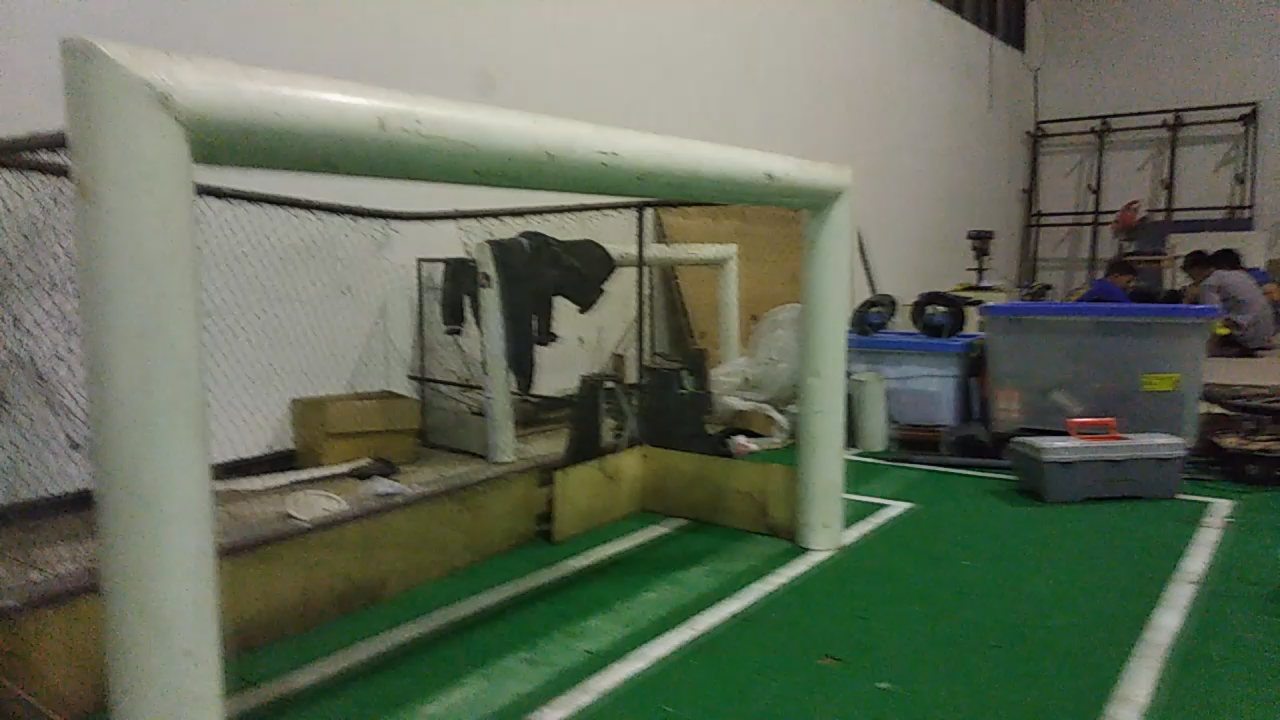gawang: (41, 16, 866, 719)
